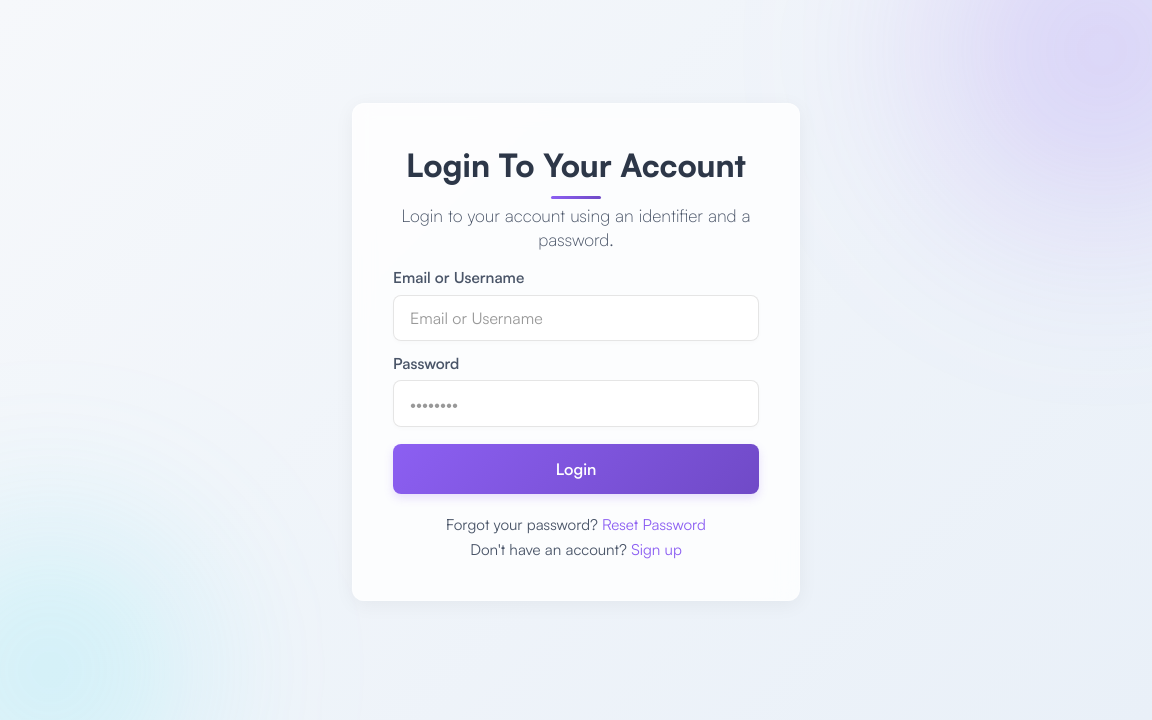
LoginPage › shows fallback error on unexpected failure
Type "testuser" into the field labelled "Email or Username". click: (576, 318)
box: [393,295,759,341]
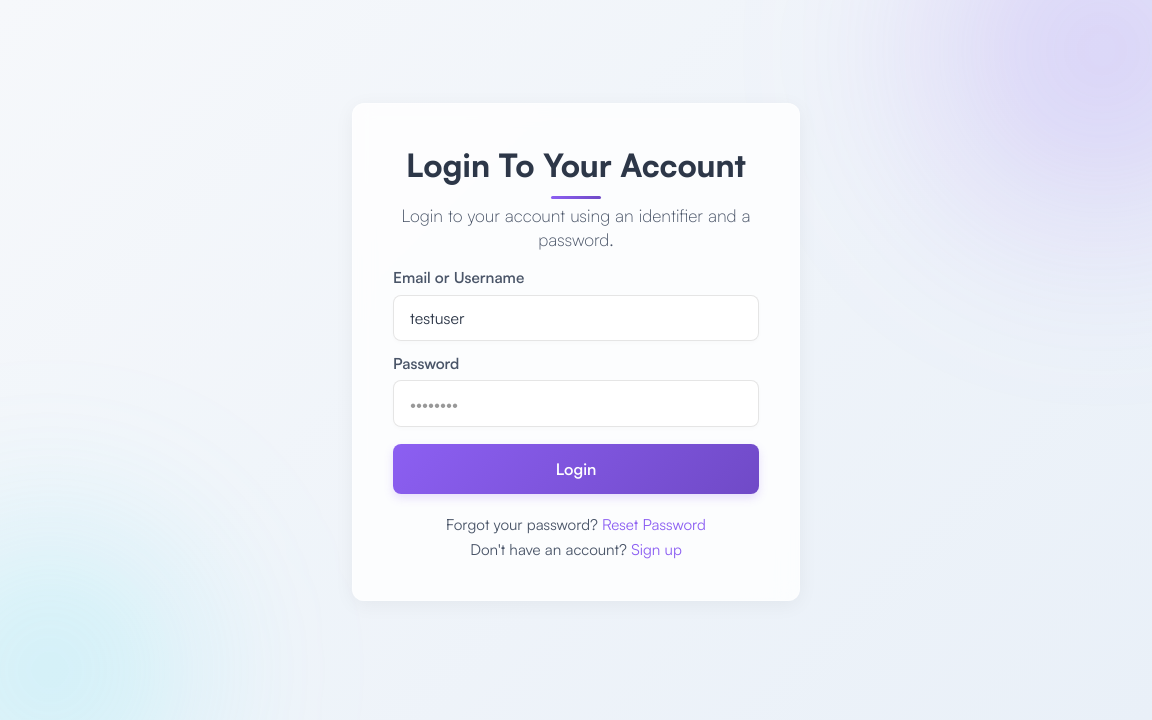
Type "P@ssw0rd!" into the password field labelled "Password". click: (576, 404)
box: [393,380,759,427]
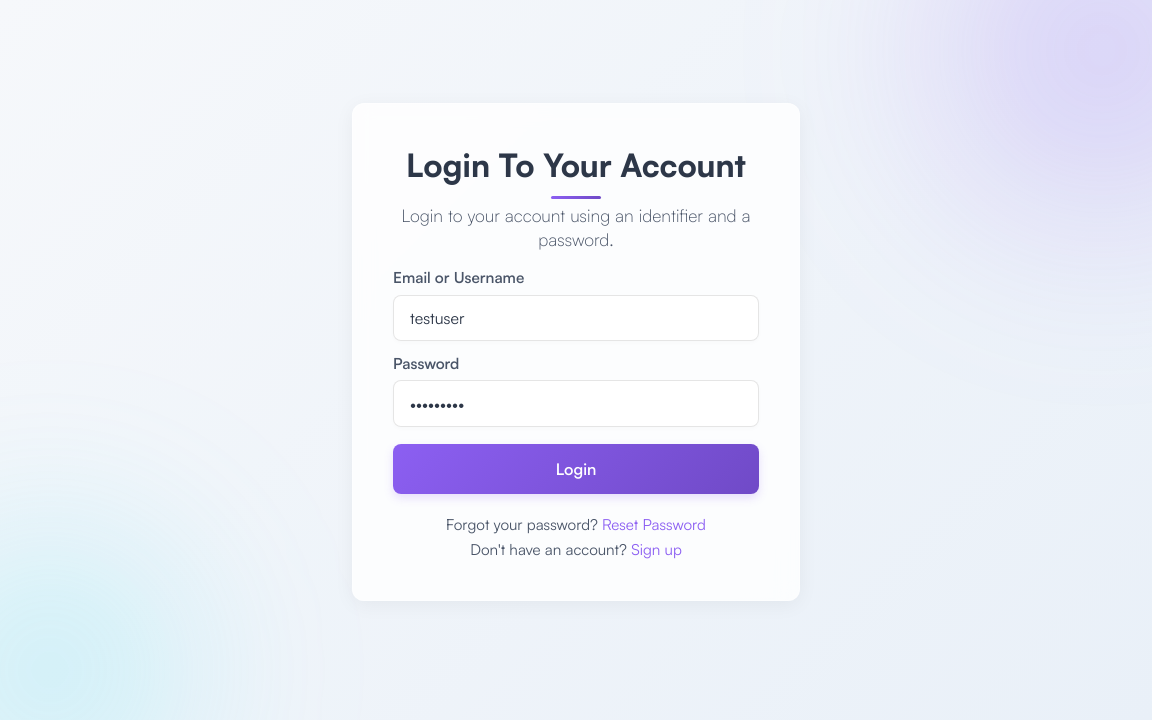
Click the button "Login". click: (576, 469)
box: [393,444,759,494]
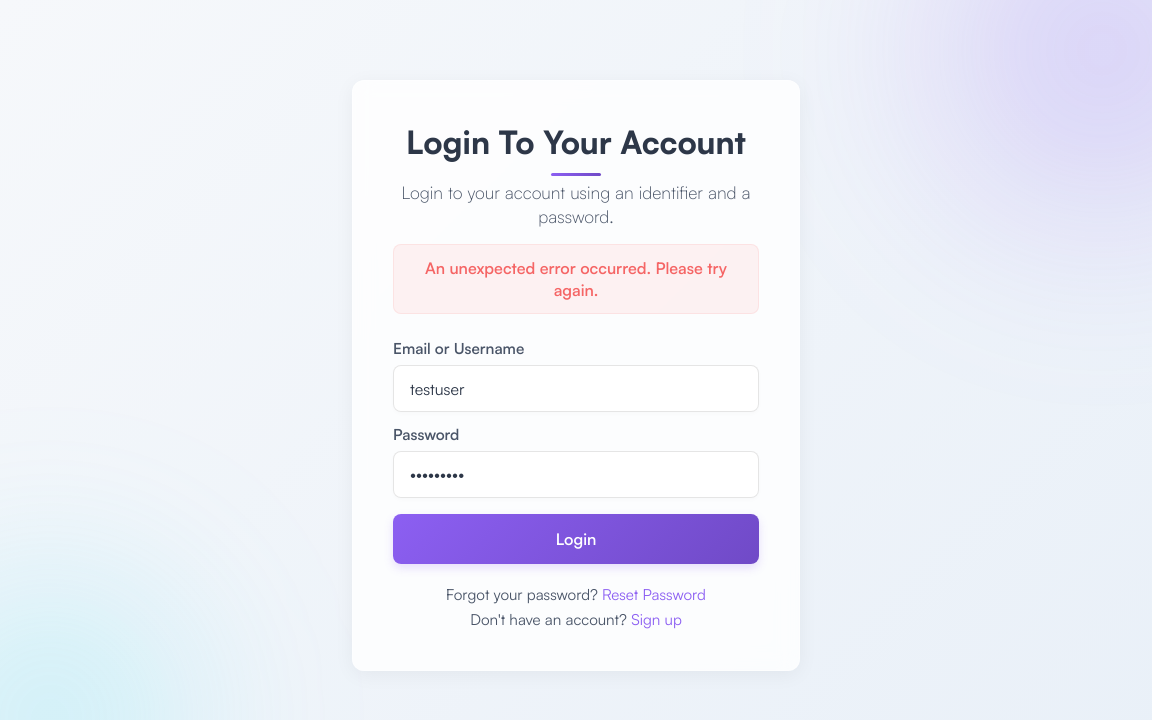
Now the text "An unexpected error occurred. Please try again." is shown, box [393,244,759,314]
